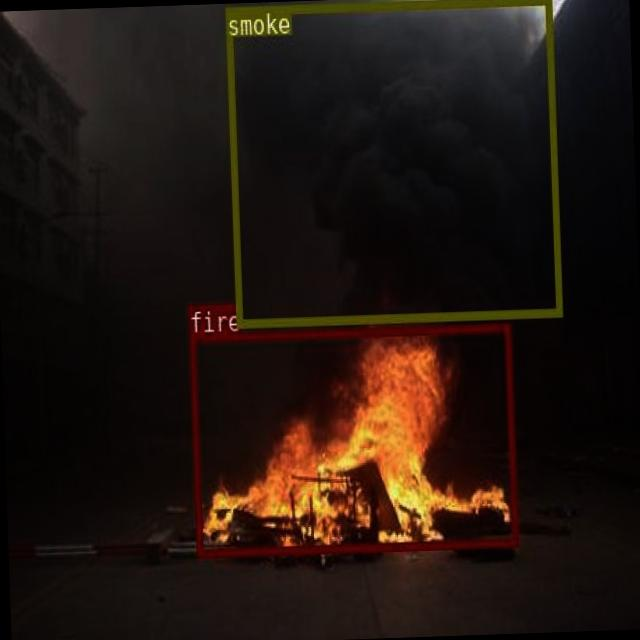fire: (187, 322, 516, 556)
smoke: (224, 0, 561, 326)
